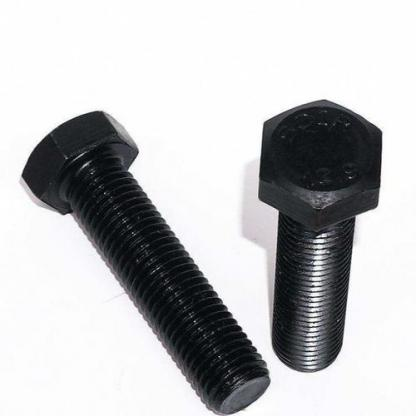FOD: (16, 105, 273, 415), (256, 96, 385, 376)
